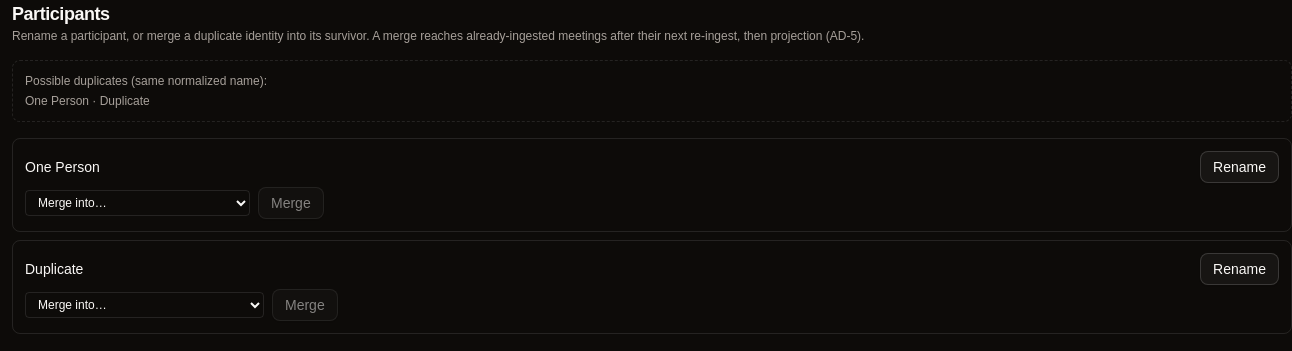
Scenario: Participants › merges one participant into another and replaces the list with the response
Expected: the list item with test id "participant-row-p-2" is shown, top-left (12, 240), bottom-right (1291, 334)
Select "One Person (mail:one@contoso.com)" in the dropdown with test id "merge-select-p-2" at point(144, 305), box top-left (25, 292), bottom-right (264, 318)
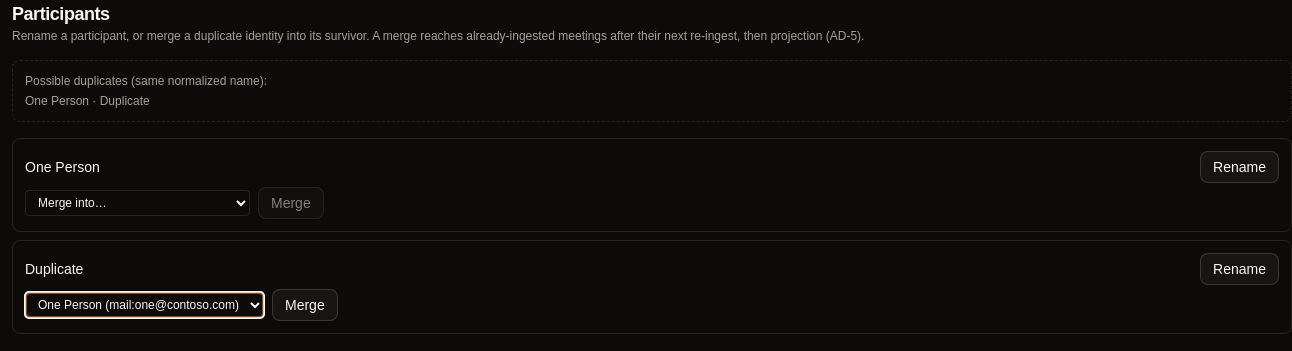
Click the button with test id "merge-button-p-2" at point(305, 305), box top-left (272, 289), bottom-right (338, 321)
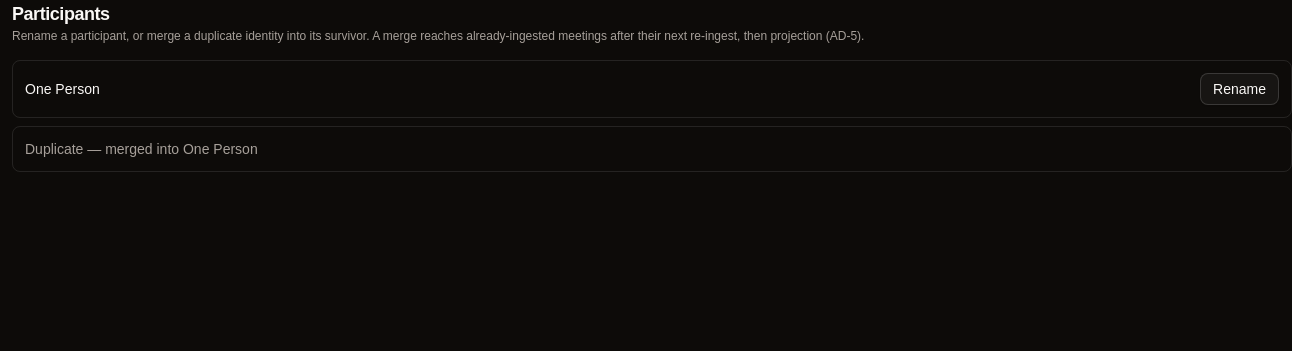
Expected: the text with test id "merged-away-p-2" shows "merged into One Person", top-left (25, 141), bottom-right (258, 157)
